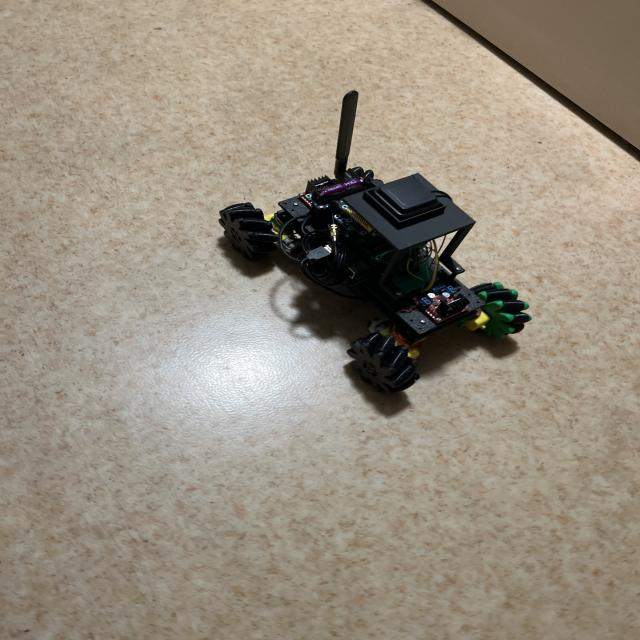robot: (219, 91, 531, 392)
